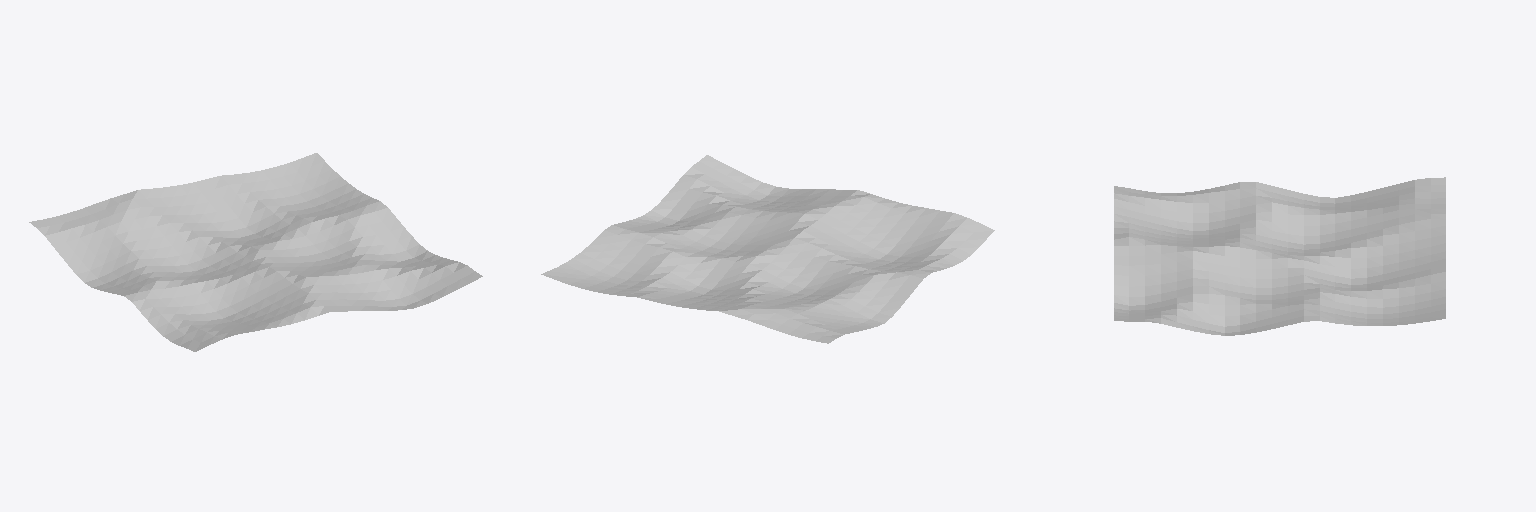
Rendered from terrain3.obj.
3 renders of one model, left to right at view 1: azimuth 30°, elevation 25°; view 2: azimuth 150°, elevation 25°; view 3: azimuth 270°, elevation 25°, orthographic.
Visible parts, largest first — view 1: Plane; view 2: Plane; view 3: Plane.
Boxes of the visible parts, box(x1,y1,x2,y2) form: Plane: box(29, 153, 482, 351); Plane: box(541, 155, 994, 343); Plane: box(1114, 177, 1445, 335).
Bounding box in the file's own units: 40 × 3.66 × 40.